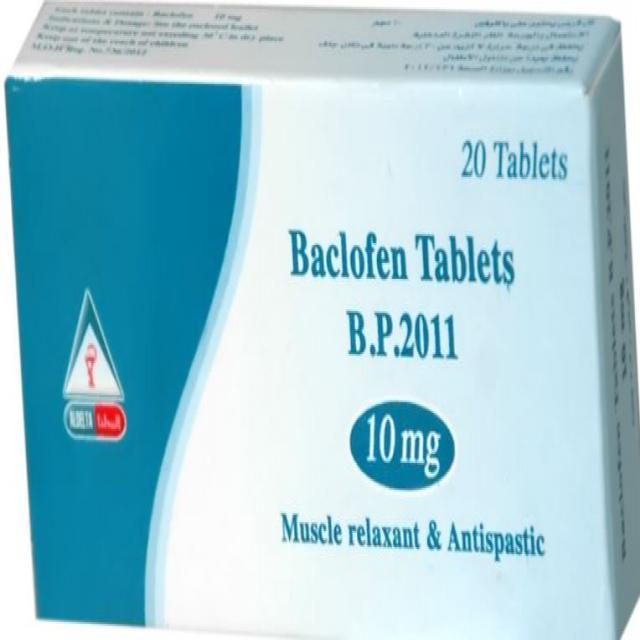drug-name: (278, 223, 412, 290)
